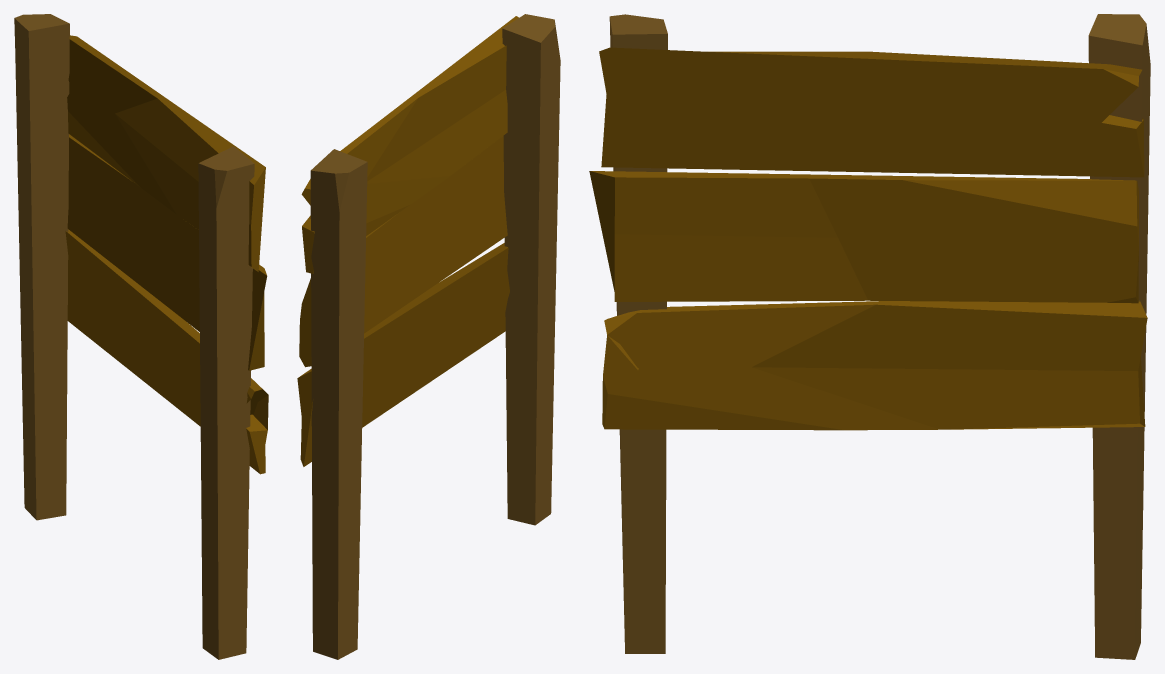
Rendered from Wooden bulletin board.fbx.
3 renders of one model, left to right at view 1: azimuth 30°, elevation 25°; view 2: azimuth 150°, elevation 25°; view 3: azimuth 270°, elevation 25°, orthographic. The views are drawn at different scales.
Visible parts, largest first — view 1: wood_plank2.001, Cube, Cube.001; view 2: wood_plank2.001, Cube.001, Cube; view 3: wood_plank2.001, Cube.001, Cube.
Part boxes in pixels (bbox=[...]): wood_plank2.001: bbox=[65, 35, 268, 474]; Cube: bbox=[198, 146, 254, 659]; Cube.001: bbox=[14, 14, 69, 520]; wood_plank2.001: bbox=[297, 16, 518, 466]; Cube.001: bbox=[310, 149, 367, 659]; Cube: bbox=[502, 14, 560, 525]; wood_plank2.001: bbox=[589, 47, 1147, 430]; Cube.001: bbox=[1088, 14, 1150, 659]; Cube: bbox=[609, 14, 667, 653].
Size of the model in its own units: 18.19 by 150 by 123.
